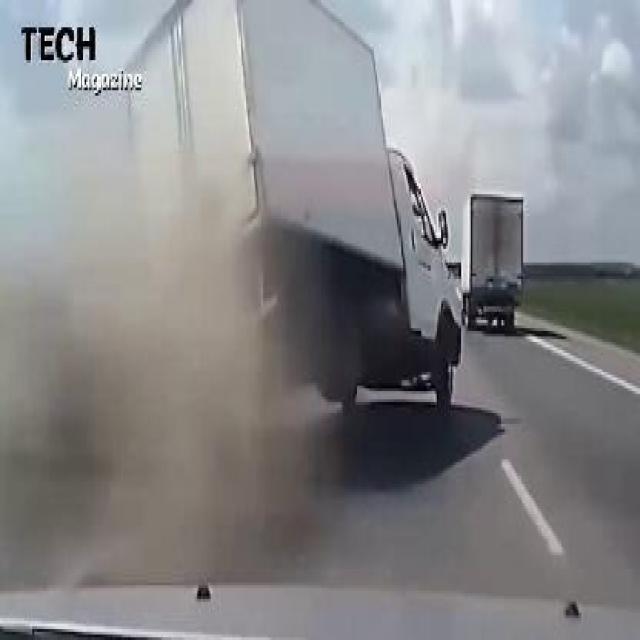accident: (108, 3, 461, 418)
